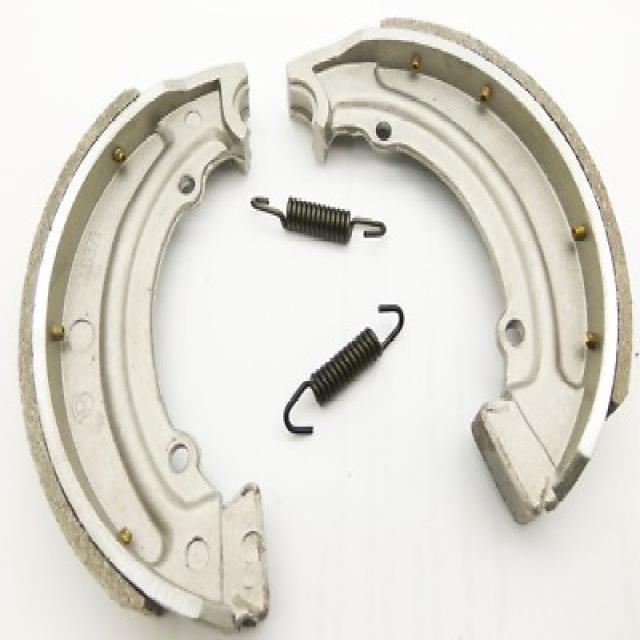brake_pad: (280, 19, 640, 522), (18, 52, 248, 640)
